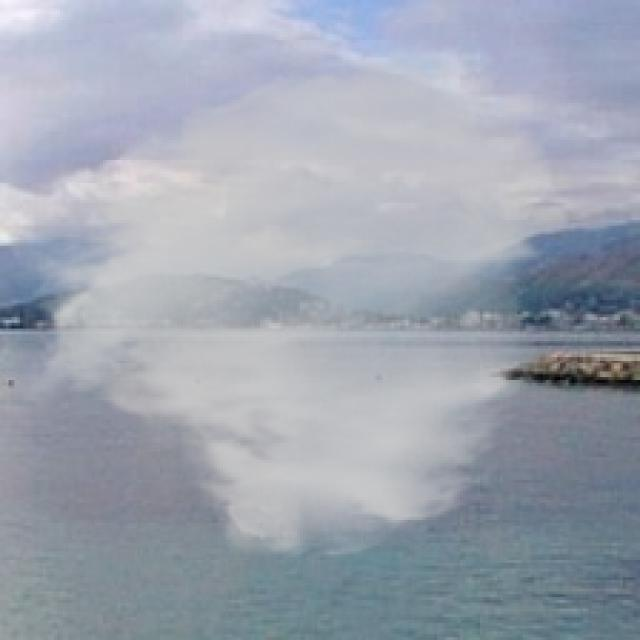smoke: (11, 48, 566, 563)
